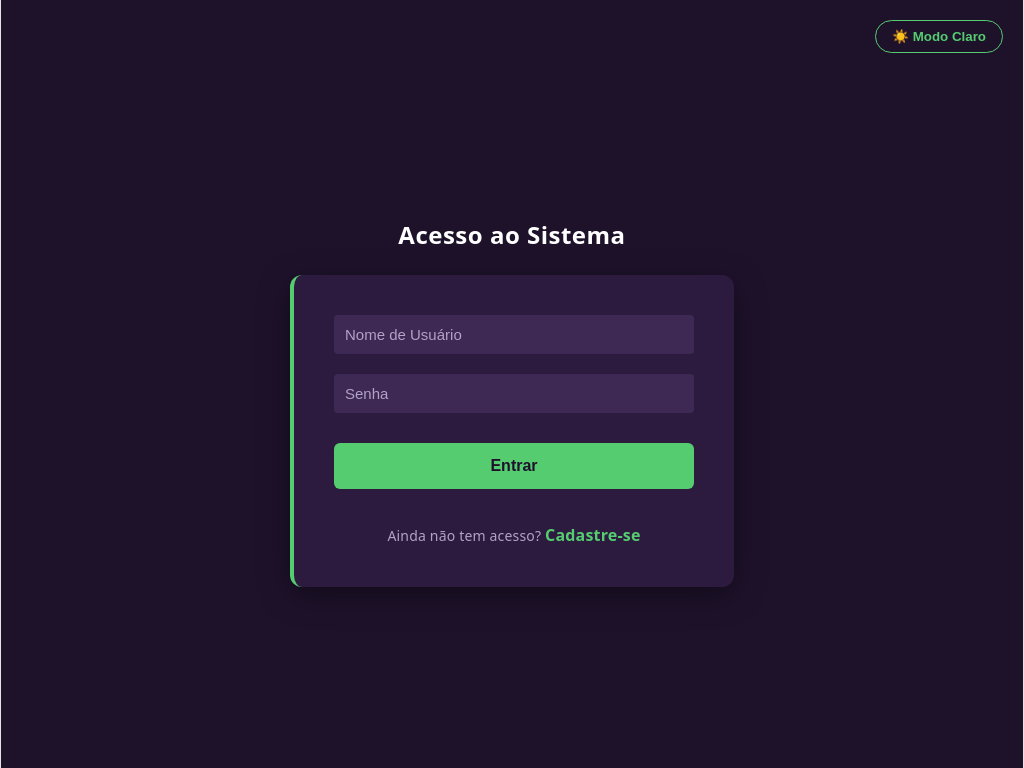
Test: Tela de Login › deve bloquear o acesso e exibir a mensagem de erro do backend
This screenshot has width=1024, height=768.
Type "hacker" into the field with placeholder "Nome de Usuário" at {"x": 514, "y": 334}, box [334, 314, 694, 354]
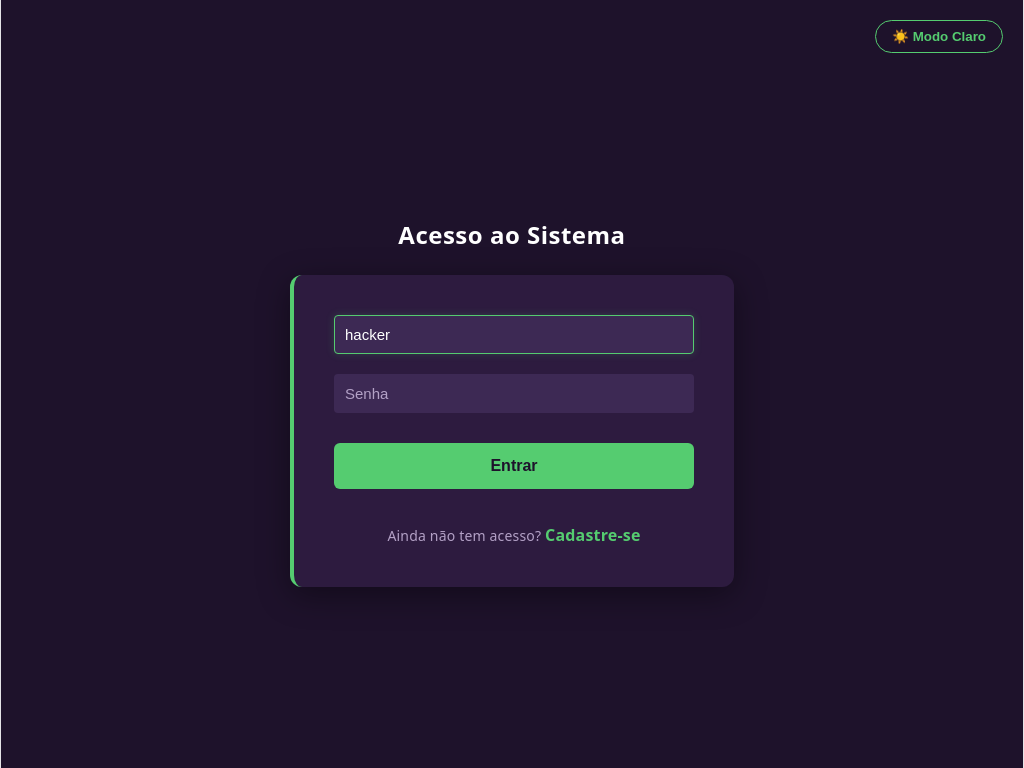
Type "senhaerrada" into the password field with placeholder "Senha" at {"x": 514, "y": 393}, box [334, 374, 694, 412]
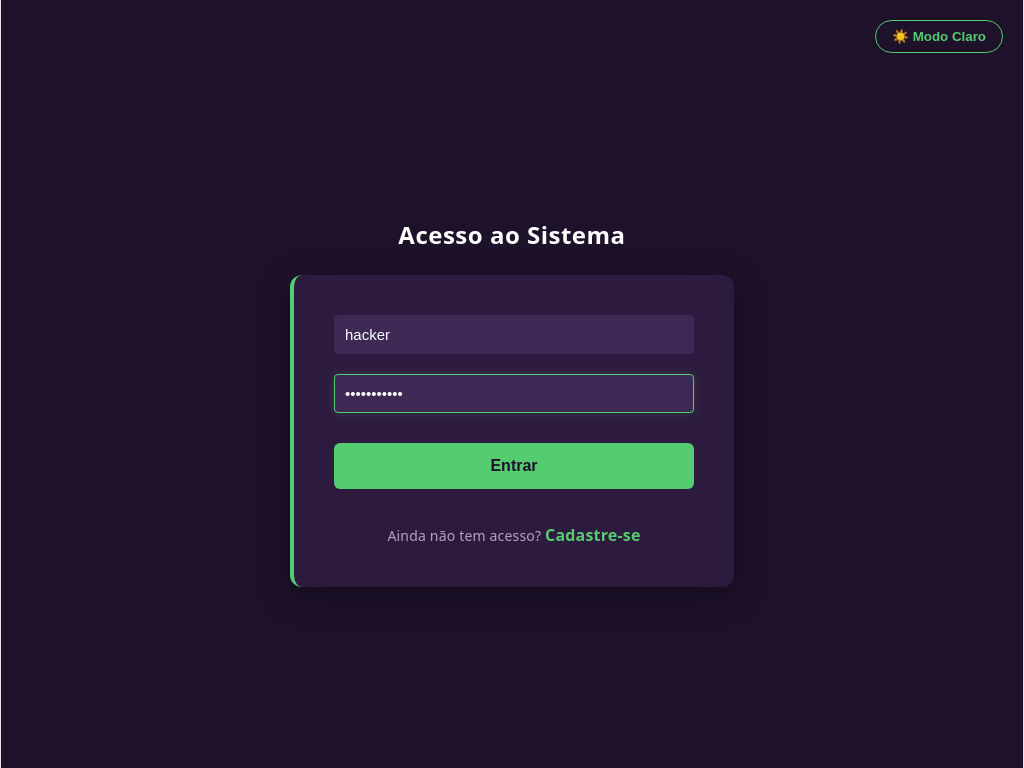
Click the button "Entrar" at {"x": 514, "y": 466}, box [334, 442, 694, 488]
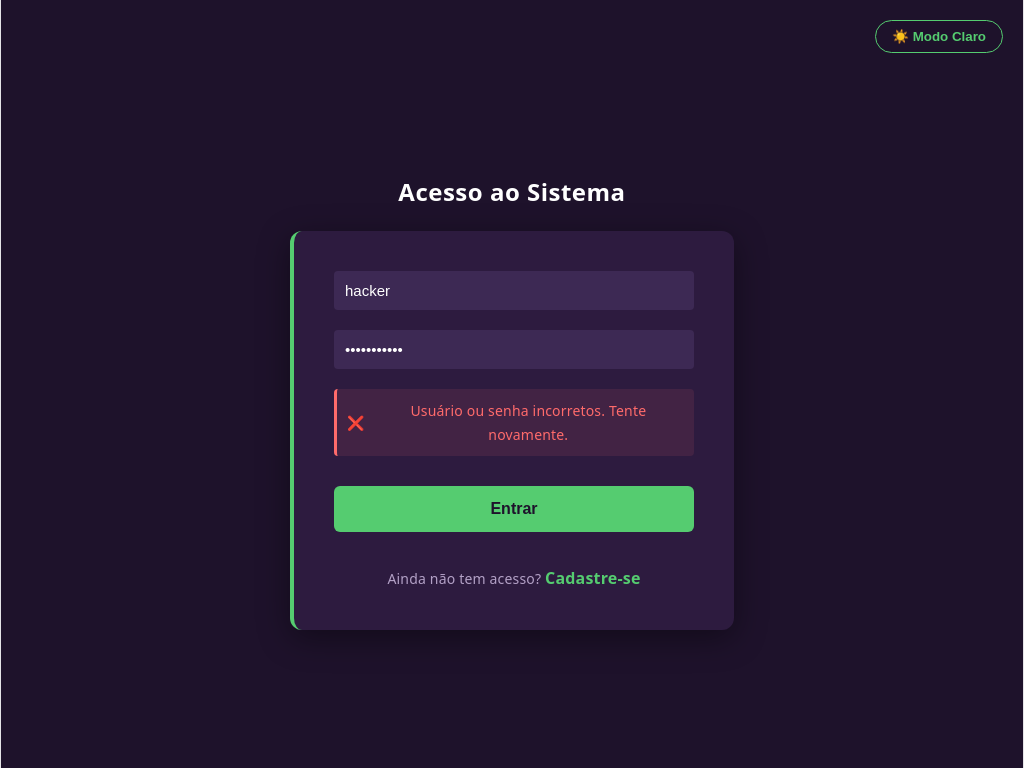
Check: the text "Usuário ou senha incorretos. Tente novamente." is shown, box [410, 401, 646, 444]
